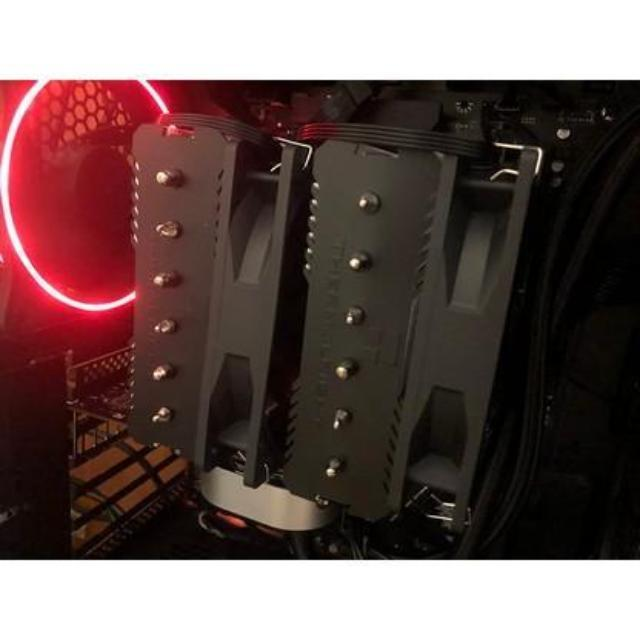CPU_Fan: (120, 115, 568, 532)
